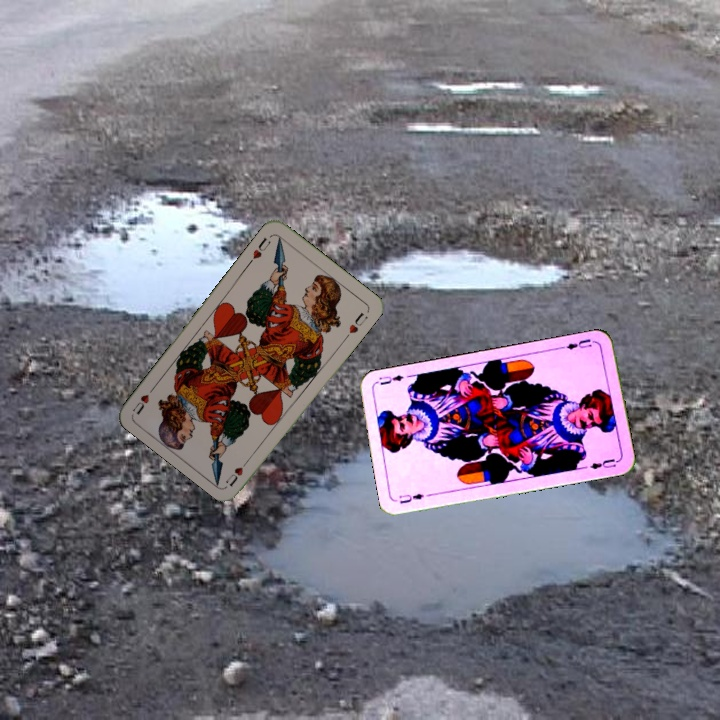EU: (557, 335, 594, 352), (395, 489, 426, 506)
HU: (221, 454, 253, 489), (245, 233, 273, 266)
